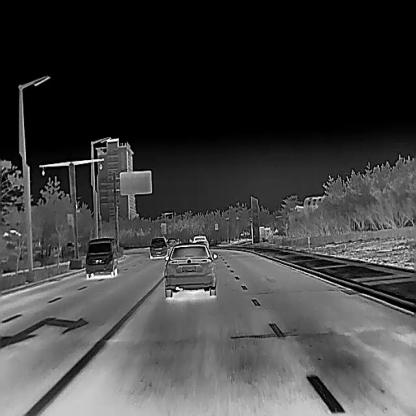bus: (257, 224, 272, 240)
car: (163, 242, 217, 297), (84, 236, 118, 278), (147, 236, 168, 258), (191, 234, 209, 251), (164, 236, 179, 248)
